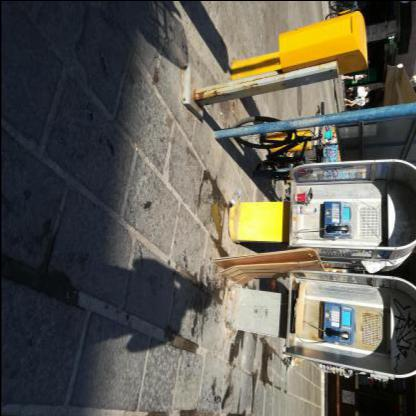Bottle: (293, 216, 295, 220), (314, 207, 316, 211), (229, 203, 231, 206)
Bottle cap: (228, 186, 240, 206), (296, 205, 316, 213)
Carton: (218, 258, 318, 284), (293, 280, 306, 334)
Cigarette: (134, 142, 137, 150)
Cup: (295, 191, 306, 202)
Plastic bag - wrapper: (360, 260, 384, 272), (305, 186, 311, 204)
